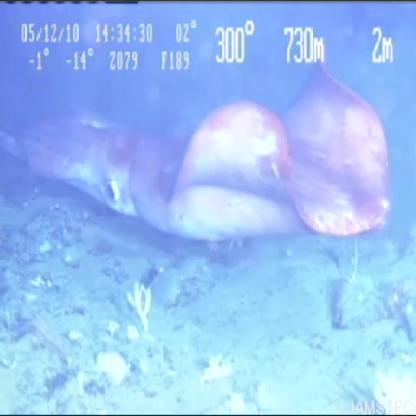Bio: (1, 43, 397, 251)
